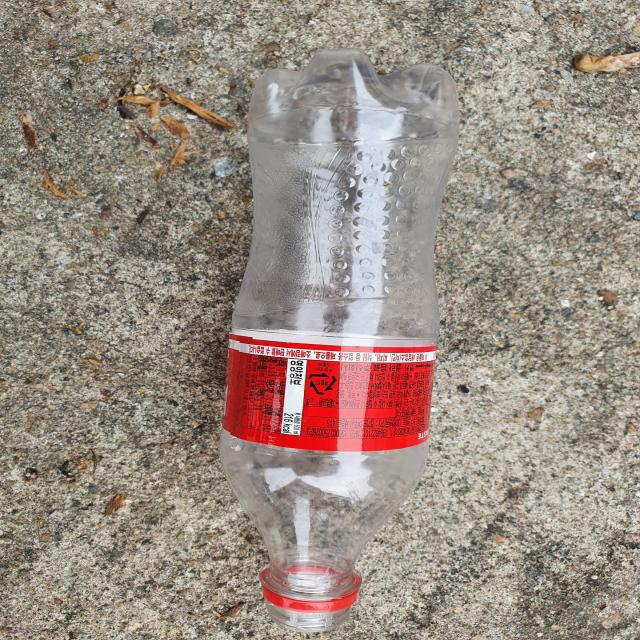plastic: (220, 48, 459, 634)
